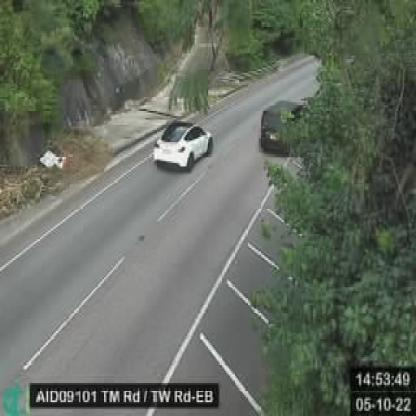Car: (152, 121, 212, 170), (257, 101, 303, 149)
